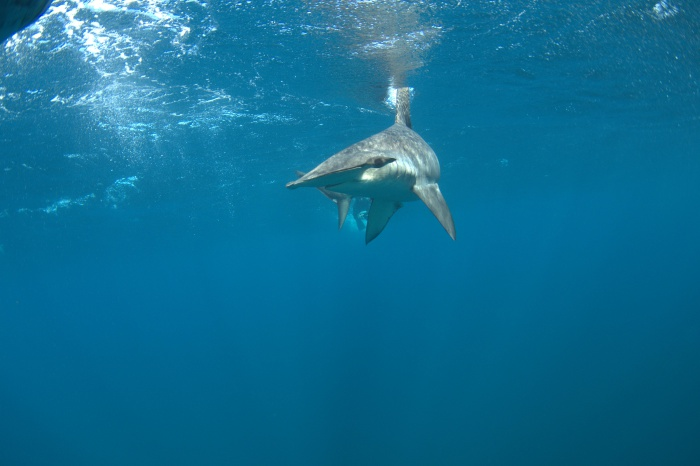Hammer: (278, 73, 464, 256)
